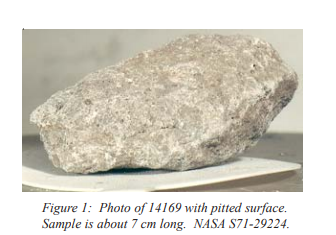Breccia: (19, 28, 301, 182)
